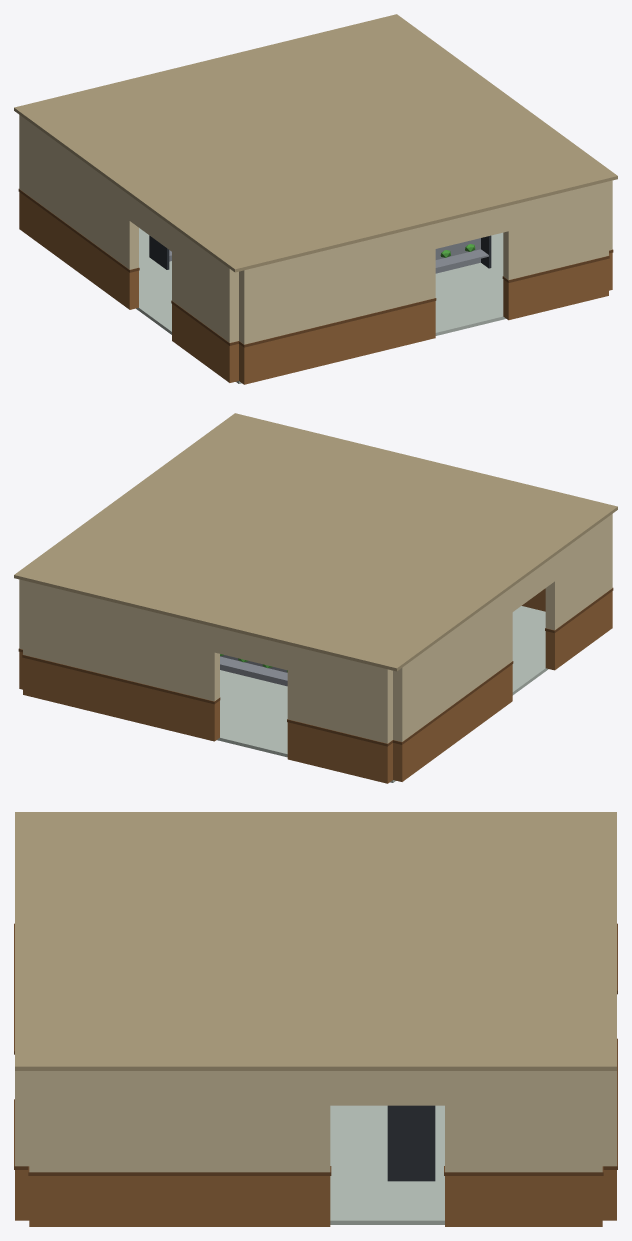
The model's file is room_botany_growth_chamber.glb.
3 views of the same model, one above another, from view 1: azimuth 30°, elevation 25°; view 2: azimuth 150°, elevation 25°; view 3: azimuth 270°, elevation 25° (orthographic). The views are drawn at different scales.
Parts seen in each view (by area): view 1: room_botany_growth_chamber; view 2: room_botany_growth_chamber; view 3: room_botany_growth_chamber.
Boxes of the visible parts, bbox=[...] form: room_botany_growth_chamber: bbox=[14, 14, 617, 384]; room_botany_growth_chamber: bbox=[14, 413, 617, 783]; room_botany_growth_chamber: bbox=[14, 812, 617, 1226].
Bounding box in the file's own units: 12.62 × 3.8 × 12.64.
Materials: 1 (1 with a texture image).
